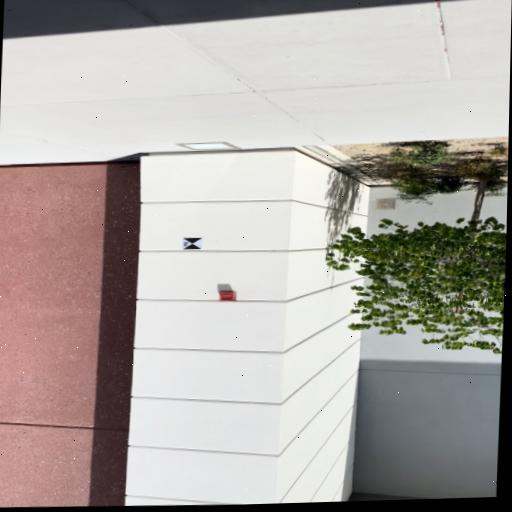target2: (182, 237, 202, 249)
